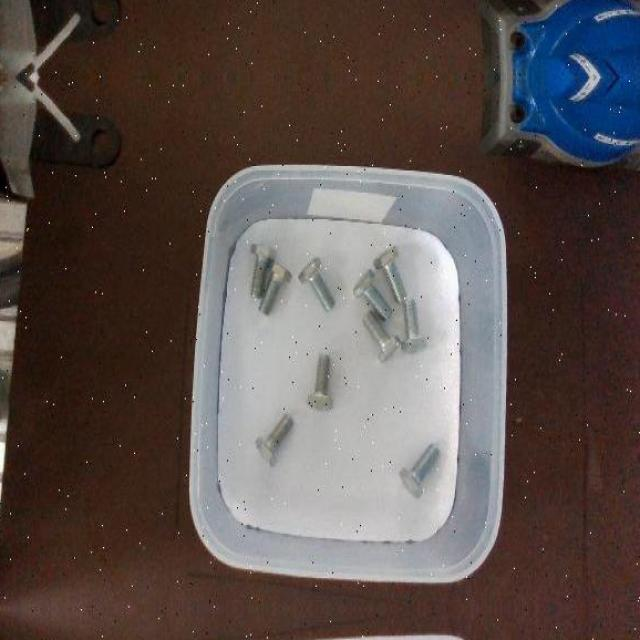screw: (400, 441, 440, 496), (362, 309, 401, 364), (256, 412, 294, 467), (298, 256, 336, 310), (372, 246, 408, 302), (353, 269, 392, 320), (258, 259, 291, 317), (306, 353, 333, 411), (401, 298, 427, 354), (249, 245, 275, 298)
